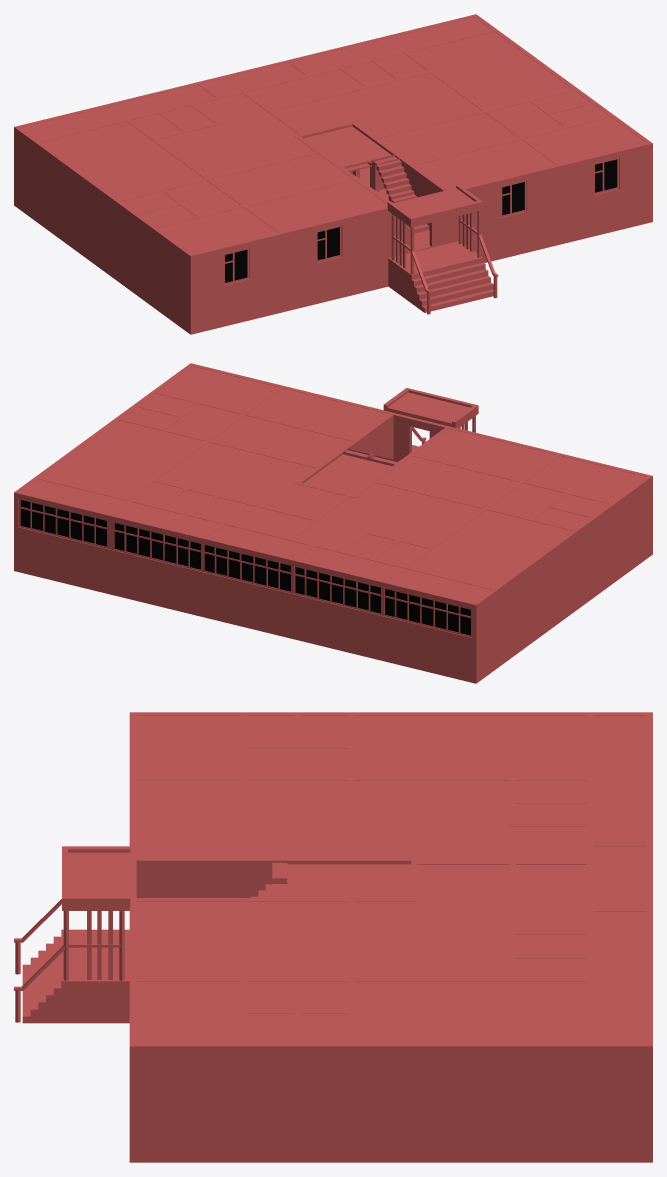
File: SM_house_section_10.fbx
3 views of the same model, one above another, from view 1: azimuth 30°, elevation 25°; view 2: azimuth 150°, elevation 25°; view 3: azimuth 270°, elevation 25° (orthographic). The views are drawn at different scales.
Visible parts, largest first — view 1: Boole_5; view 2: Boole_5; view 3: Boole_5.
Part boxes in pixels (x1,y1,x2,y2): Boole_5: (14, 14, 652, 334); Boole_5: (14, 363, 652, 683); Boole_5: (14, 712, 652, 1162).
Bounding box in the file's own units: 2309 × 402 × 1868.
